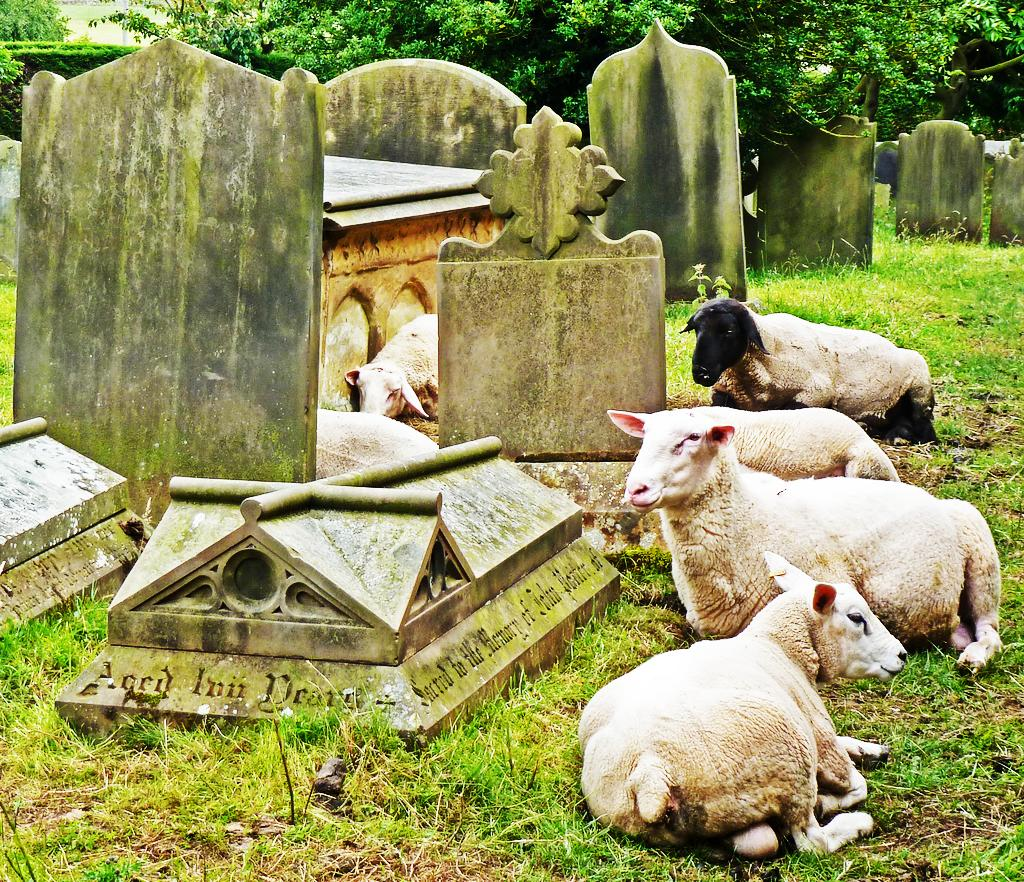Sheep: (604, 410, 1004, 679), (578, 548, 908, 864), (578, 550, 912, 859), (678, 295, 946, 445), (678, 408, 898, 478), (345, 312, 440, 416)
